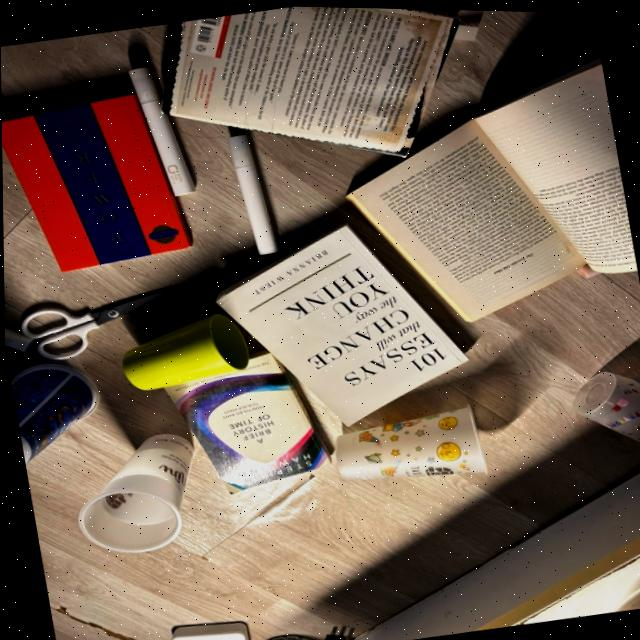Book: (347, 57, 637, 320), (216, 224, 467, 424), (162, 5, 481, 154), (1, 93, 191, 271), (165, 350, 326, 489)
HighLight Pen: (129, 67, 195, 195), (229, 133, 277, 253), (4, 328, 32, 351), (579, 261, 598, 275)
Plastic Cup: (77, 433, 192, 552), (335, 405, 485, 479), (11, 363, 98, 463), (573, 369, 640, 440)
Scissors: (20, 285, 181, 360)
WaterGlass: (122, 313, 249, 390)
